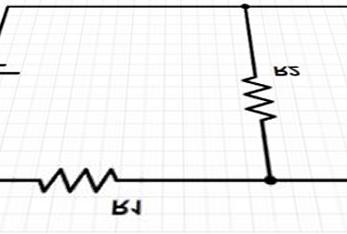resistor: (25, 158, 133, 201), (230, 63, 273, 136)
